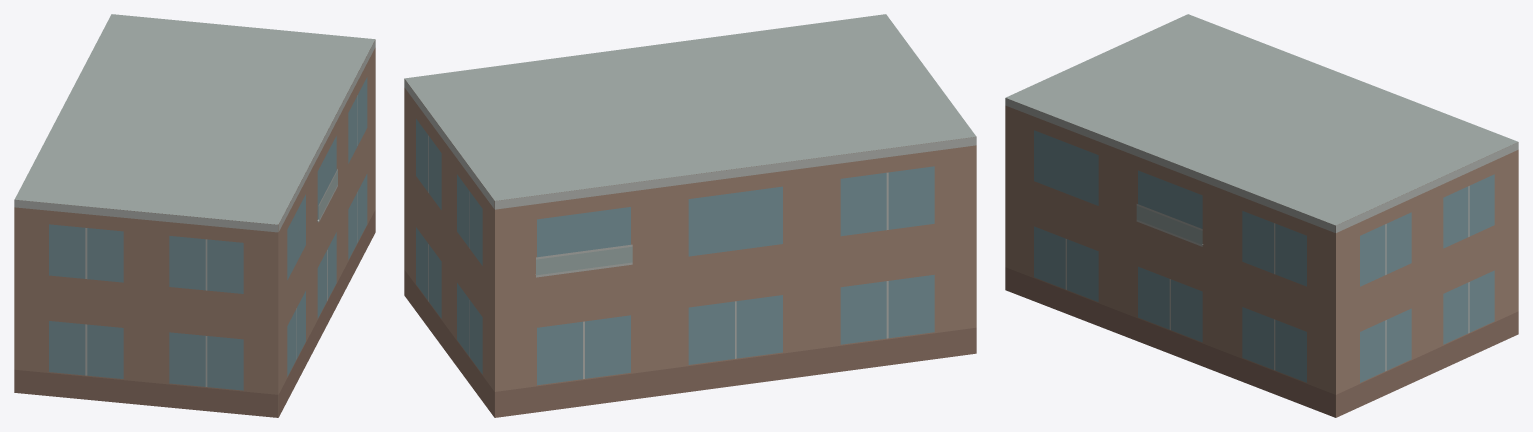
File: survey-upis-32779414.glb
The picture shows the model from 3 angles, left to right: view 1: azimuth 30°, elevation 25°; view 2: azimuth 150°, elevation 25°; view 3: azimuth 270°, elevation 25°; orthographic projection. The views are drawn at different scales.
Visible parts, largest first — view 1: survey-upis-32779414.tmp; view 2: survey-upis-32779414.tmp; view 3: survey-upis-32779414.tmp.
Part boxes in pixels (x1,y1,x2,y2): survey-upis-32779414.tmp: [14, 14, 375, 417]; survey-upis-32779414.tmp: [404, 14, 976, 417]; survey-upis-32779414.tmp: [1005, 14, 1518, 417].
Size of the model in its own units: 14.4 by 6.1 by 14.76.
